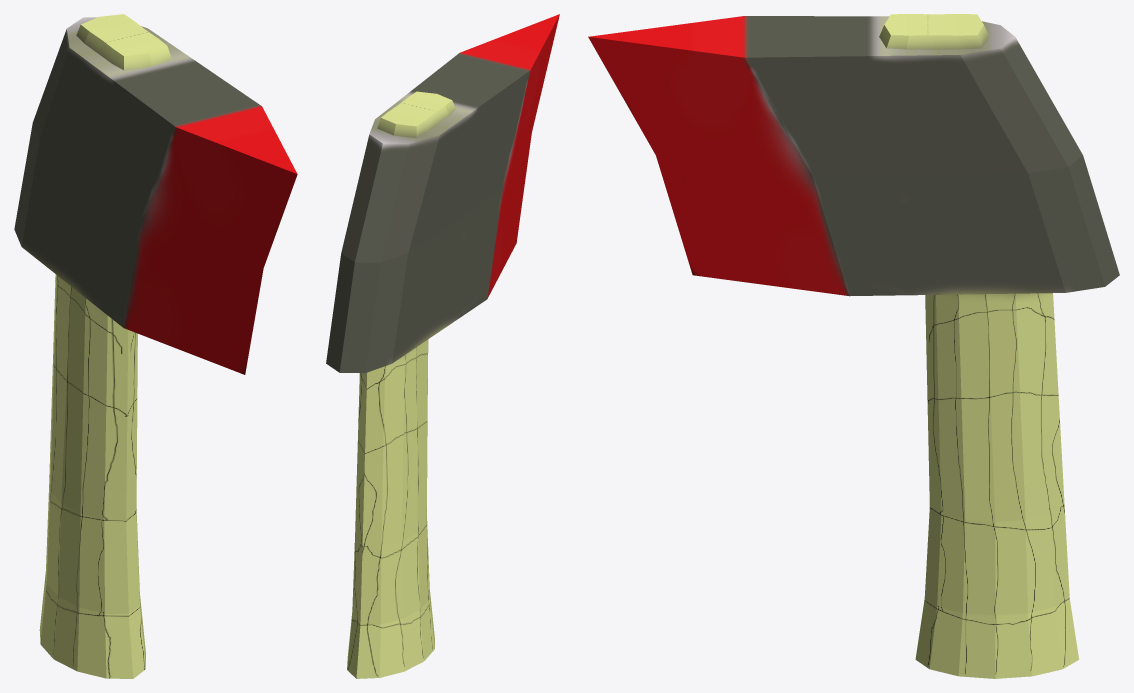
Rendered from axe.fbx.
3 renders of one model, left to right at view 1: azimuth 30°, elevation 25°; view 2: azimuth 150°, elevation 25°; view 3: azimuth 270°, elevation 25°, orthographic. The views are drawn at different scales.
Visible parts, largest first — view 1: Circle; view 2: Circle; view 3: Circle.
Boxes of the visible parts, x1,y1,x2,y2 form: Circle: (14, 14, 297, 678); Circle: (326, 14, 559, 678); Circle: (588, 14, 1119, 678).
Size of the model in its own units: 146 by 1036 by 787.
